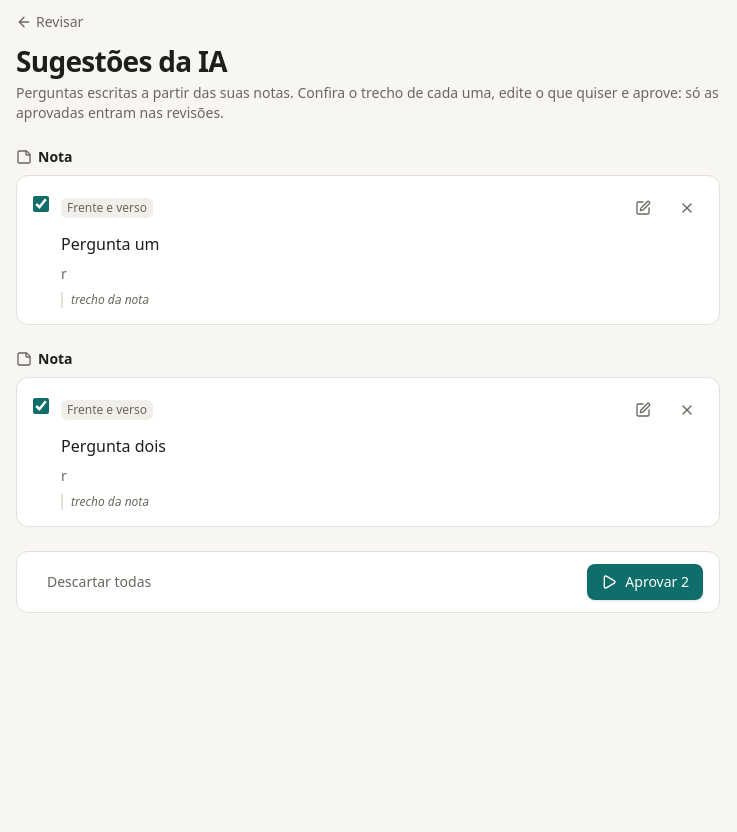
review dialogs › approval starts with every suggestion selected and keeps what was unchecked when the list reloads
Expected: the button "Aprovar 2" is shown, [587,564,703,600]
Click the 1st checkbox named "Aprovar esta pergunta" at (41, 204), box [33,196,49,212]
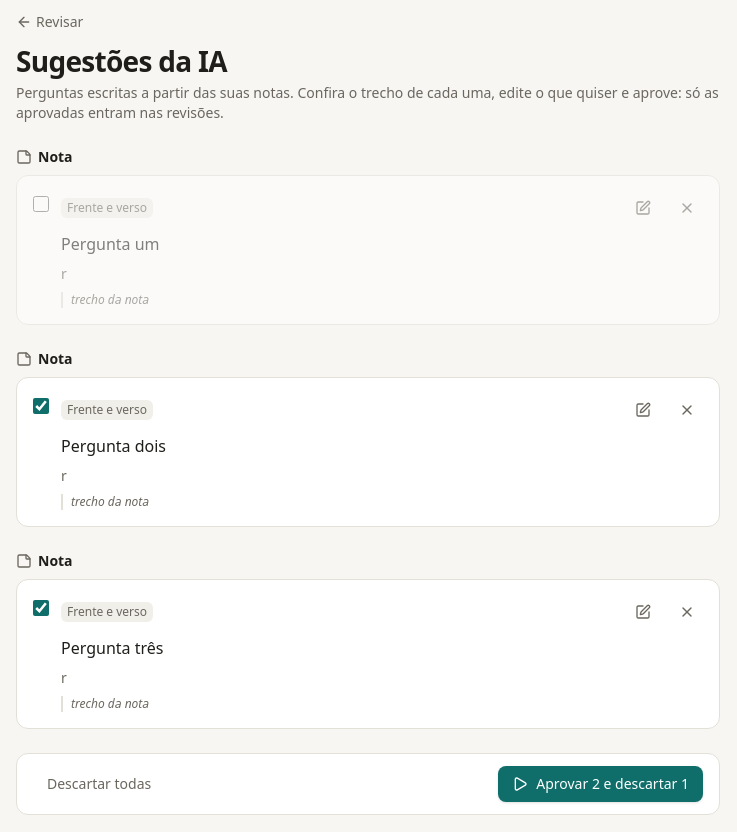
Now the button "Aprovar 2 e descartar 1" is shown, box [498,766,703,802]
